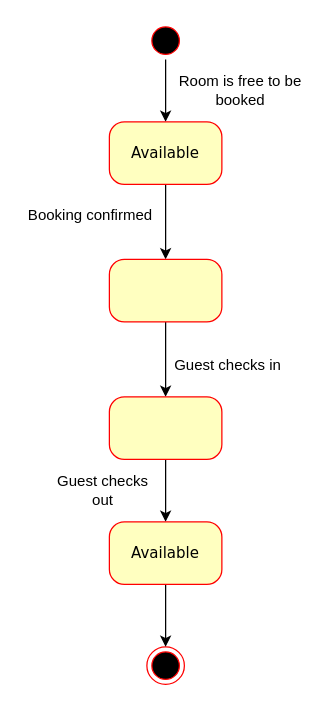
This 336x706 diagram has some shape labels left out. The shapes that lost their labels are listed below. From the top down, each one's centre as x and y in pixels, then its label:
At point (165, 290): "Reserved".
At point (165, 427): "Occupied".
